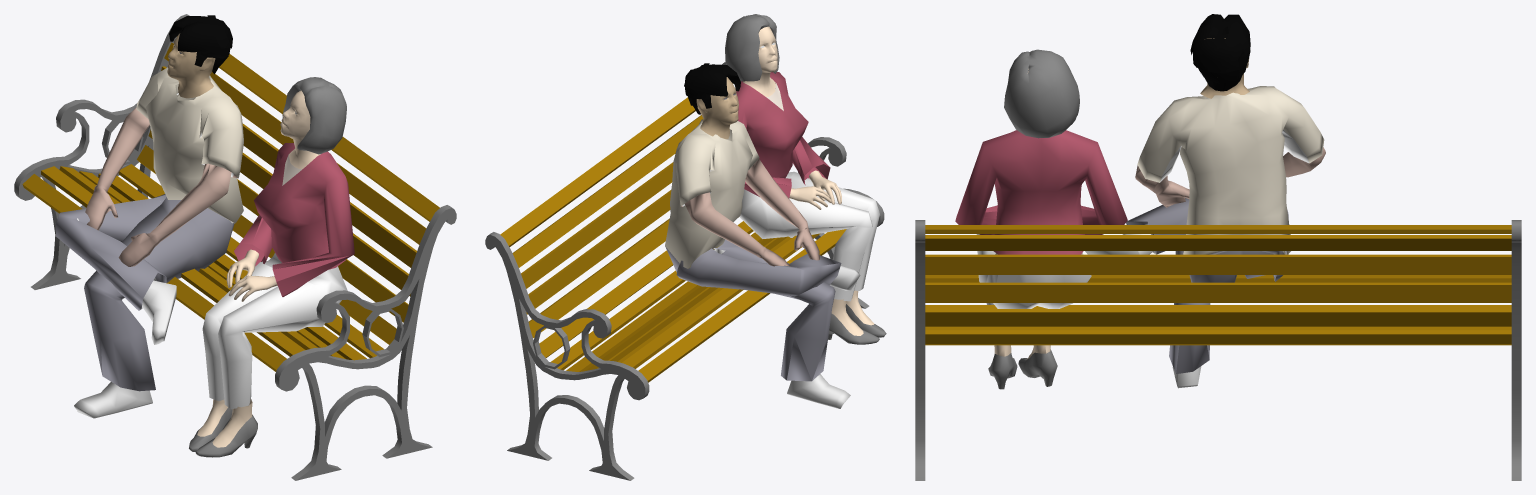
The model's file is sp-furn-bench1-5x2ft.glb.
3 renders of one model, left to right at view 1: azimuth 30°, elevation 25°; view 2: azimuth 150°, elevation 25°; view 3: azimuth 270°, elevation 25°, orthographic. The views are drawn at different scales.
Visible parts, largest first — view 1: 3DGeom-10, 3DGeom-3, 3DGeom-15, 3DGeom-1, 3DGeom-18, 3DGeom-4, 3DGeom-17, 3DGeom-2, 3DGeom-16, 3DGeom-21, 3DGeom-20; view 2: 3DGeom-10, 3DGeom-3, 3DGeom-15, 3DGeom-18, 3DGeom-4, 3DGeom-1, 3DGeom-17, 3DGeom-2, 3DGeom-16, 3DGeom-21, 3DGeom-20; view 3: 3DGeom-10, 3DGeom-18, 3DGeom-1, 3DGeom-3, 3DGeom-21, 3DGeom-15, 3DGeom-17, 3DGeom-4, 3DGeom-16.
Part boxes in pixels (x1,y1,x2,y2): 3DGeom-10: [22, 36, 439, 371]; 3DGeom-3: [14, 14, 456, 480]; 3DGeom-15: [55, 194, 234, 391]; 3DGeom-1: [234, 142, 354, 296]; 3DGeom-18: [136, 67, 243, 223]; 3DGeom-4: [202, 111, 347, 409]; 3DGeom-17: [85, 107, 238, 266]; 3DGeom-2: [197, 90, 320, 447]; 3DGeom-16: [74, 93, 234, 418]; 3DGeom-21: [169, 15, 232, 74]; 3DGeom-20: [167, 33, 215, 98]; 3DGeom-10: [500, 83, 846, 382]; 3DGeom-3: [485, 14, 886, 480]; 3DGeom-15: [665, 239, 841, 381]; 3DGeom-18: [665, 119, 759, 268]; 3DGeom-4: [739, 42, 879, 301]; 3DGeom-1: [736, 72, 830, 198]; 3DGeom-17: [681, 159, 819, 266]; 3DGeom-2: [743, 26, 874, 335]; 3DGeom-16: [682, 170, 860, 408]; 3DGeom-21: [684, 63, 740, 114]; 3DGeom-20: [696, 77, 738, 139]; 3DGeom-10: [925, 225, 1511, 345]; 3DGeom-18: [1137, 86, 1324, 254]; 3DGeom-1: [955, 130, 1127, 254]; 3DGeom-3: [915, 49, 1521, 480]; 3DGeom-21: [1190, 14, 1250, 91]; 3DGeom-15: [1126, 198, 1288, 373]; 3DGeom-17: [1135, 147, 1325, 207]; 3DGeom-4: [976, 234, 1091, 308]; 3DGeom-16: [1085, 130, 1308, 388].
Size of the model in its own units: 0.8859 by 1.16 by 1.58.
